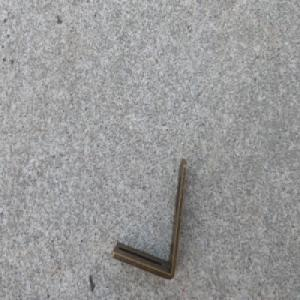MetalPart: (111, 155, 188, 280)
